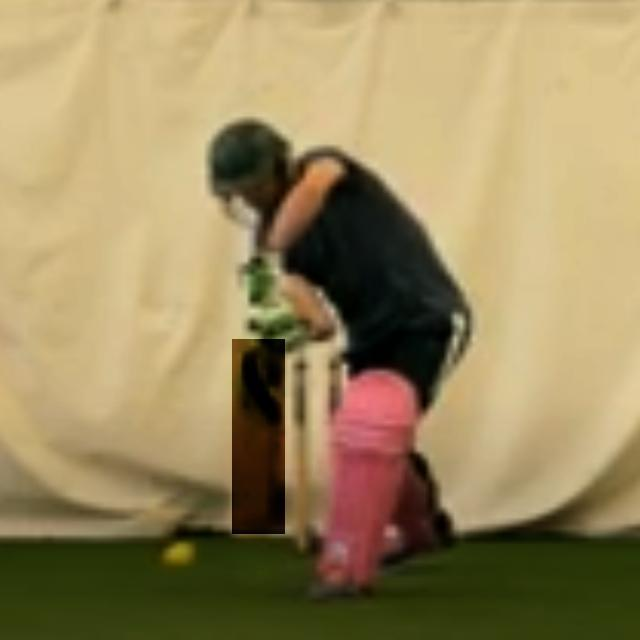bat: (232, 339, 286, 535)
